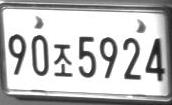0: (30, 34, 49, 76)
2: (123, 37, 141, 80)
4: (145, 37, 165, 81)
5: (78, 35, 96, 78)
9: (99, 36, 118, 79), (7, 33, 26, 74)
조: (53, 43, 72, 76)
